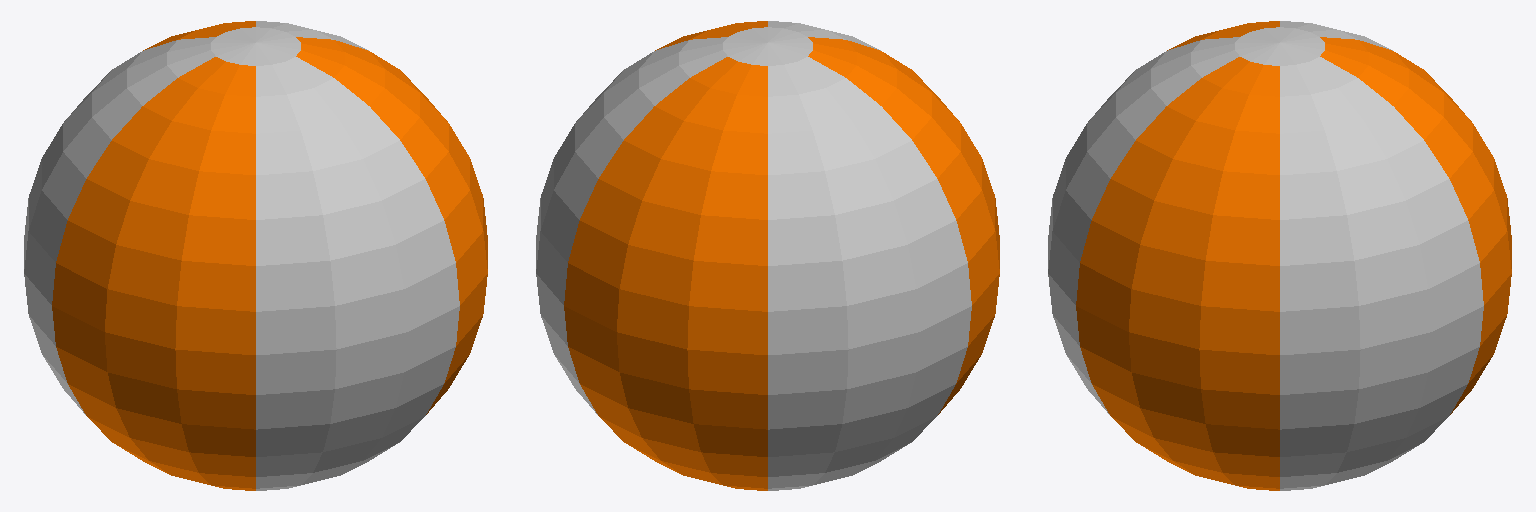
The model's file is ball_teamYellow.obj.
3 renders of one model, left to right at view 1: azimuth 30°, elevation 25°; view 2: azimuth 150°, elevation 25°; view 3: azimuth 270°, elevation 25°, orthographic.
Visible parts, largest first — view 1: ball_teamYellow_Sphere.009; view 2: ball_teamYellow_Sphere.009; view 3: ball_teamYellow_Sphere.009.
Boxes of the visible parts, x1=… form: ball_teamYellow_Sphere.009: x1=24, y1=21, x2=487, y2=490; ball_teamYellow_Sphere.009: x1=536, y1=21, x2=999, y2=490; ball_teamYellow_Sphere.009: x1=1048, y1=21, x2=1511, y2=490.
Size of the model in its own units: 2 by 2 by 1.97.